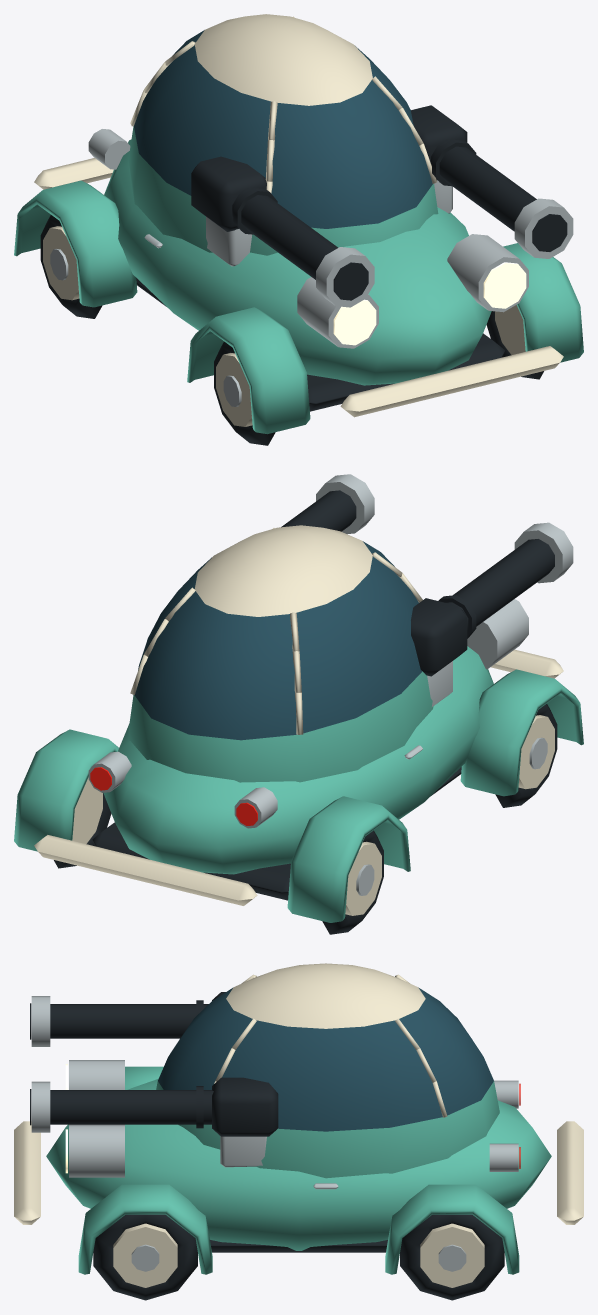
File: bubble-distant.glb
3 renders of one model, top to bottom at view 1: azimuth 30°, elevation 25°; view 2: azimuth 150°, elevation 25°; view 3: azimuth 270°, elevation 25°, orthographic. The views are drawn at different scales.
Parts seen in each view (by area): view 1: canopy, fender_left, bonnet, roof, gun_left, door_left, gun_right, body, lights_front, fender_right, bumper_front, wheel_rl (+5 smaller); view 2: canopy, fender_left, roof, boot, gun_left, door_left, body, fender_right, bumper_rear, gun_right, wheel_fl, wheel_rl (+4 smaller); view 3: canopy, door_right, gun_right, roof, fender_right, body, wheel_fr, wheel_rr, gun_left, lights_front, boot, bonnet (+4 smaller).
Part boxes in pixels (x1,y1,x2,y2): canopy: (128,16,438,255); fender_left: (14,180,310,434); bonnet: (302,220,491,359); roof: (194,14,372,105); gun_left: (191,156,374,307); door_left: (104,166,303,347); gun_right: (411,105,573,258); body: (119,241,505,411); lights_front: (297,234,528,348); fender_right: (503,243,583,362); bumper_front: (340,346,563,417); wheel_rl: (40,215,102,318); canopy: (128,528,433,782); fender_left: (287,669,583,922); roof: (194,525,372,616); boot: (103,741,294,848); gun_left: (411,522,573,706); door_left: (294,653,493,836); body: (92,730,478,900); fender_right: (14,729,118,851); bumper_rear: (34,835,257,905); gun_right: (281,474,374,534); wheel_fl: (495,704,557,807); wheel_rl: (322,830,383,934); canopy: (156,974,499,1178); door_right: (126,1127,471,1214); gun_right: (30,1077,278,1167); roof: (226,963,425,1028); fender_right: (78,1184,519,1274); body: (47,1158,550,1252); wheel_fr: (93,1214,197,1300); wheel_rr: (400,1214,504,1300); gun_left: (30,992,225,1046); lights_front: (65,1060,124,1177); boot: (452,1100,551,1193); bonnet: (46,1079,182,1193).
Bounding box in the file's own units: 1.62 × 1.43 × 2.75.
